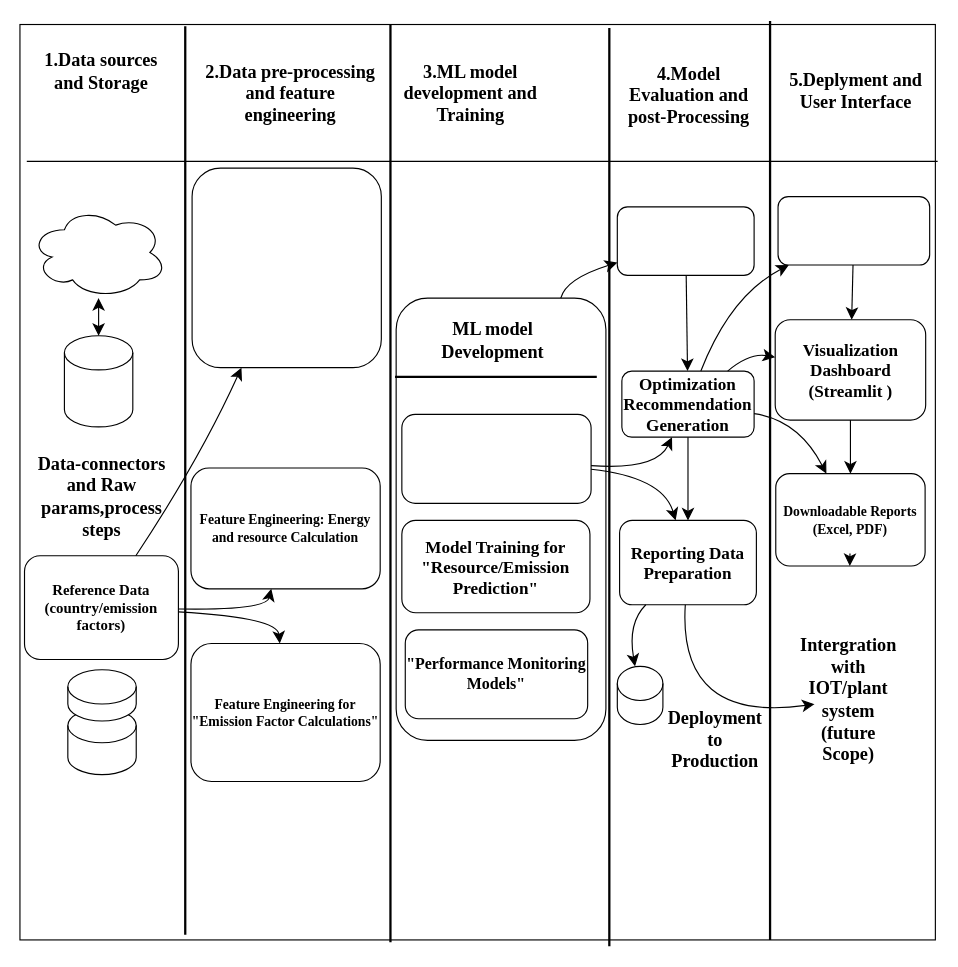
Image size: 958x967. Some labels were removed from this diagram. The centre of each missing label's shape, as x and y in pixels:
API for Real-time Inference: point 853,230
Data Pre-Processing Unit convesion,normalization, missing data handling: point 286,267
Model Evaluation & Validation: point 685,240
Model Training for "Process Simulation" / "Optimization Engine": point 496,458
